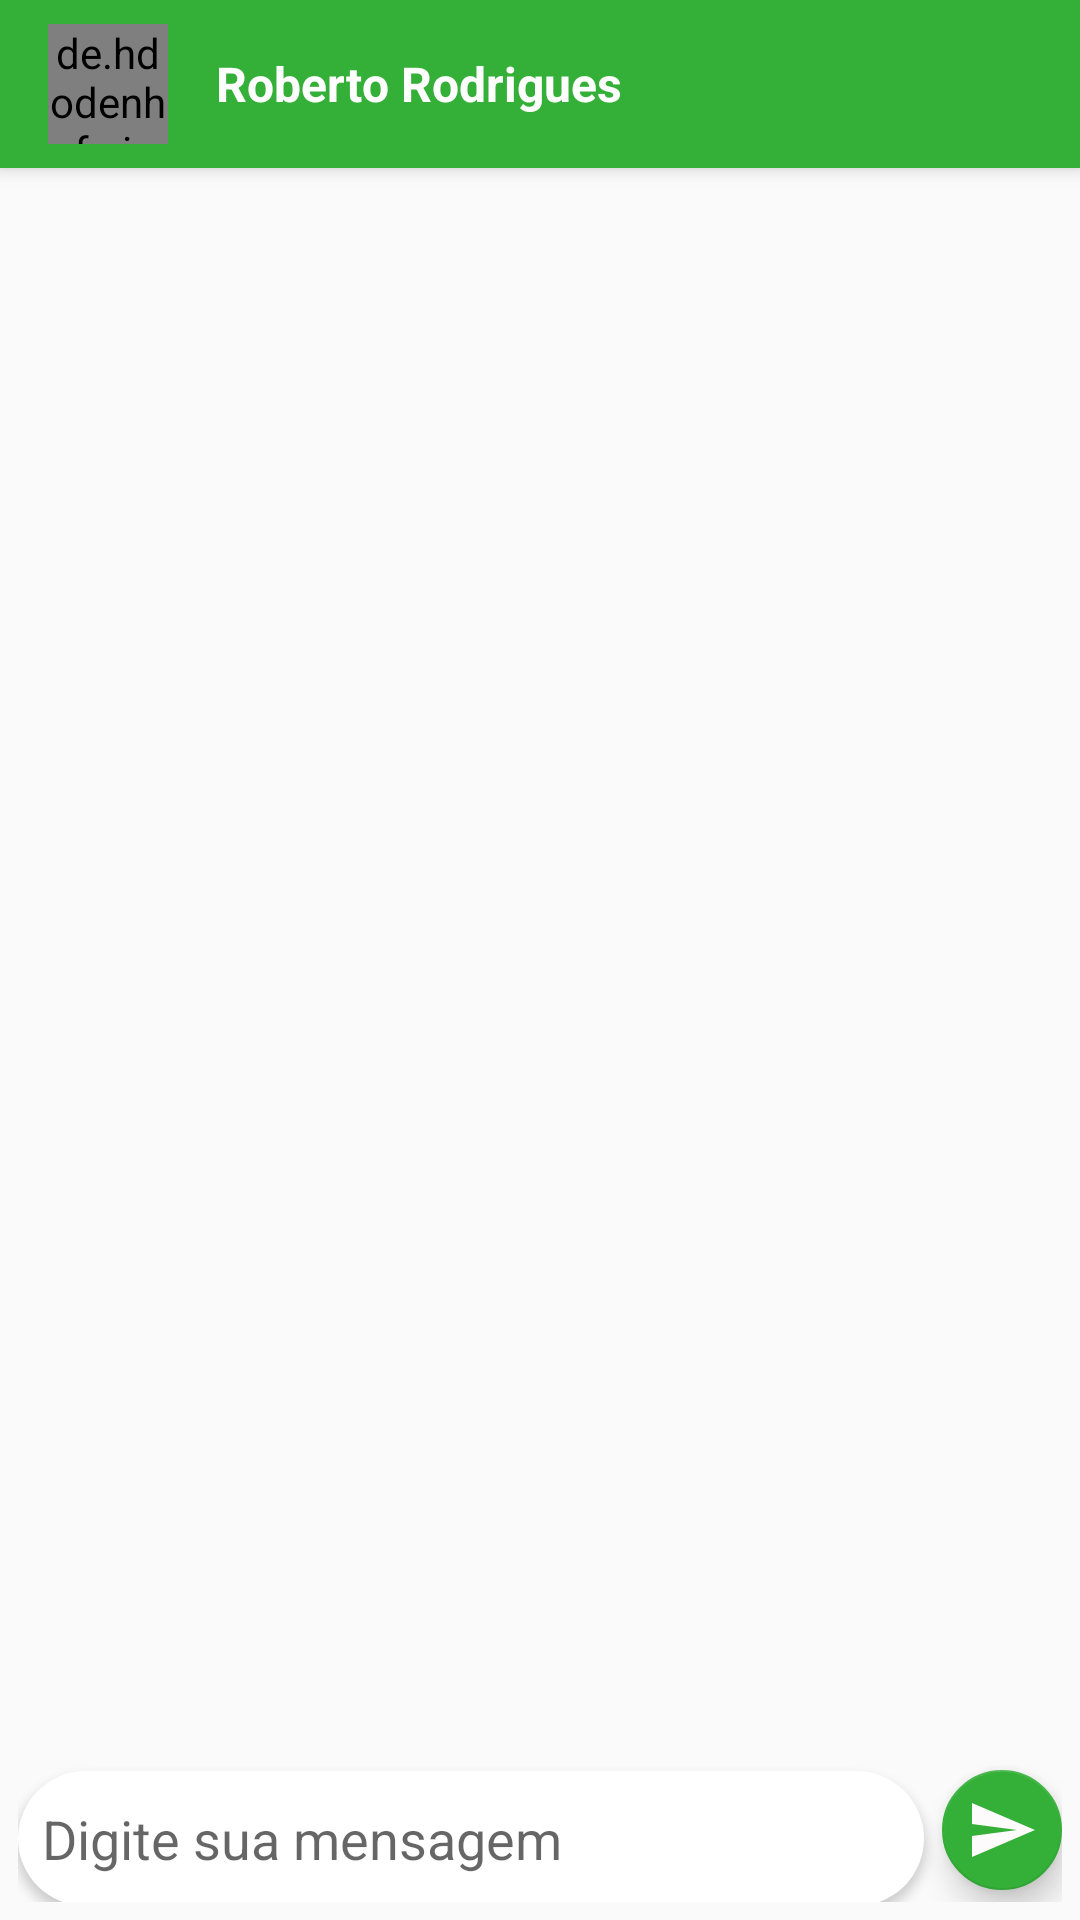

Screen size 1080 x 1920. Icon name, then its center in pixels as (x,y):
send branco: (1002,1830)
